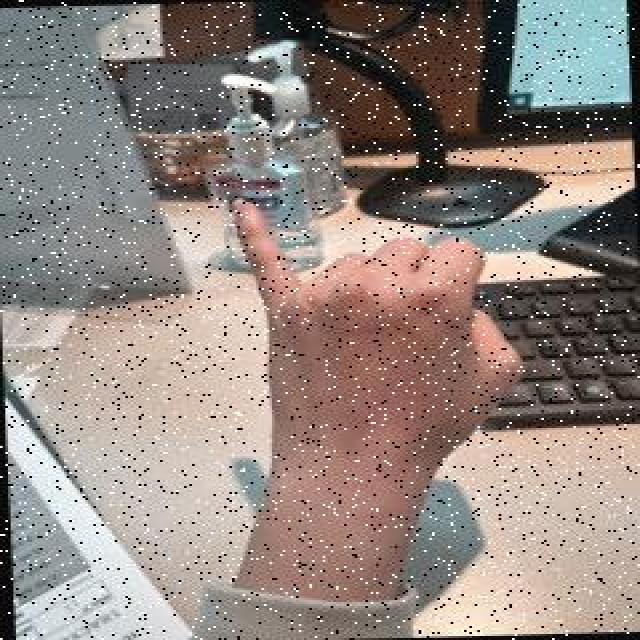I: (224, 181, 533, 487)
